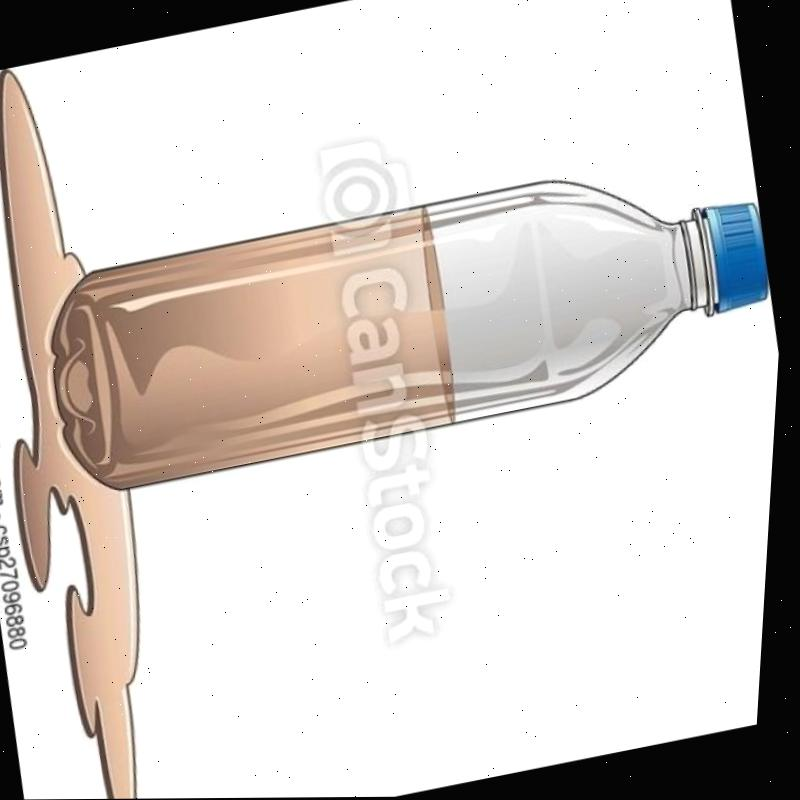botella: (26, 139, 793, 505)
